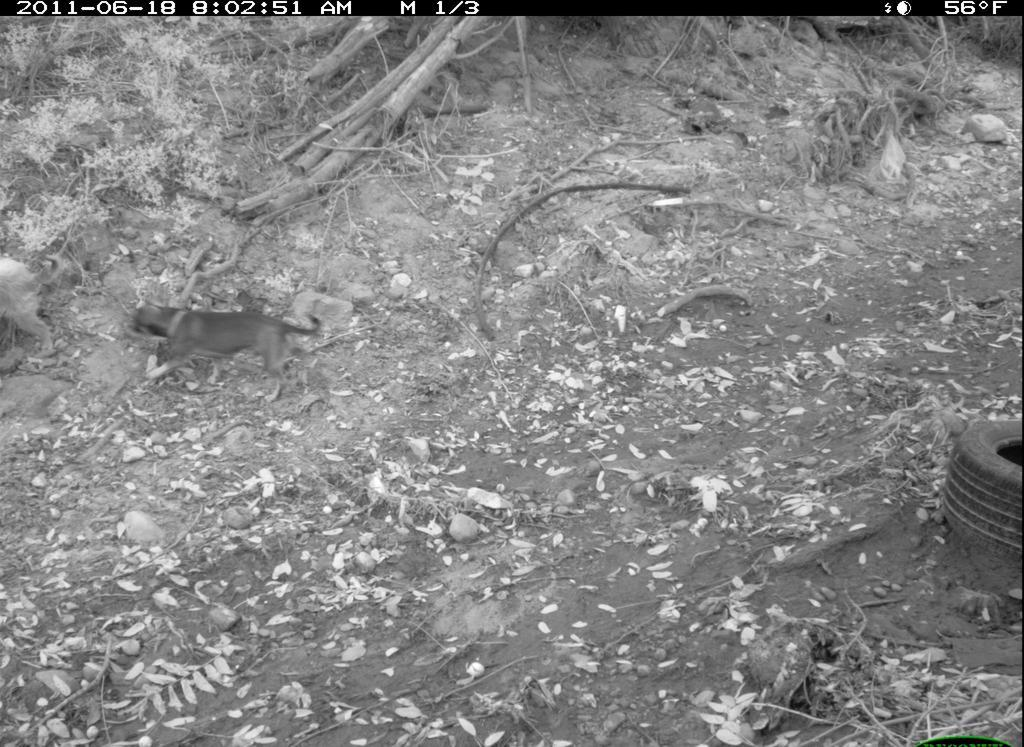dog: (113, 290, 323, 386), (3, 254, 68, 355)
